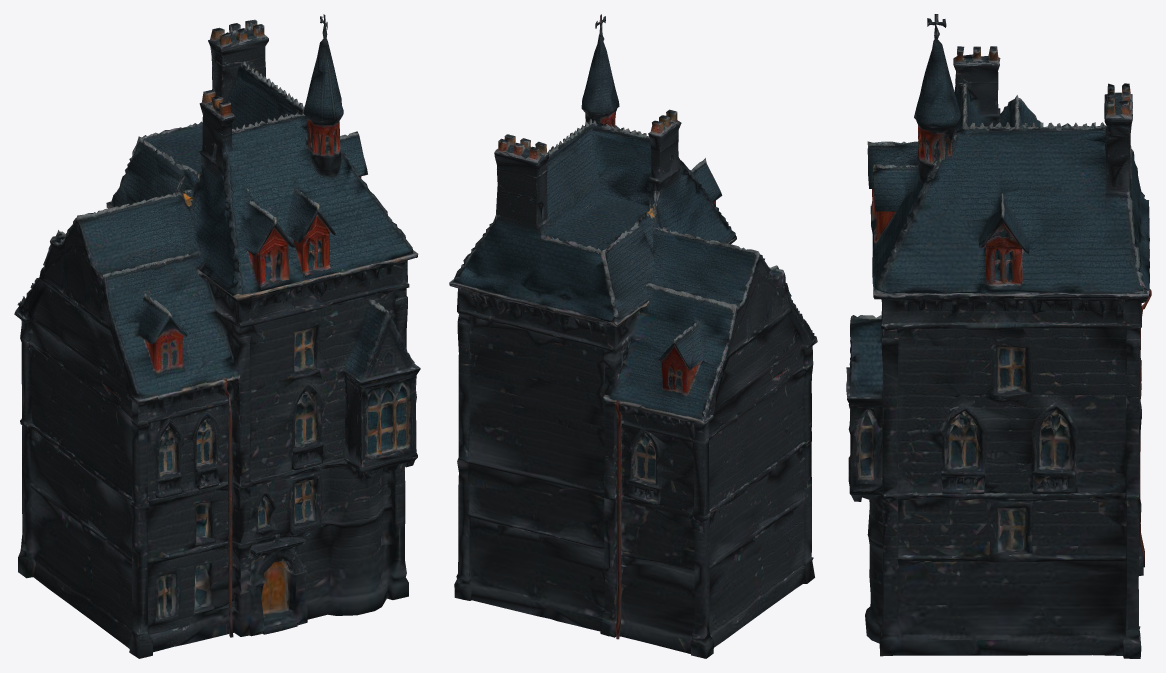
File: gothic_block.glb
The picture shows the model from 3 angles, left to right: view 1: azimuth 30°, elevation 25°; view 2: azimuth 150°, elevation 25°; view 3: azimuth 270°, elevation 25°; orthographic projection. The views are drawn at different scales.
Size of the model in its own units: 0.9543 by 1.9 by 0.8595.
1 material, 1 textured.
